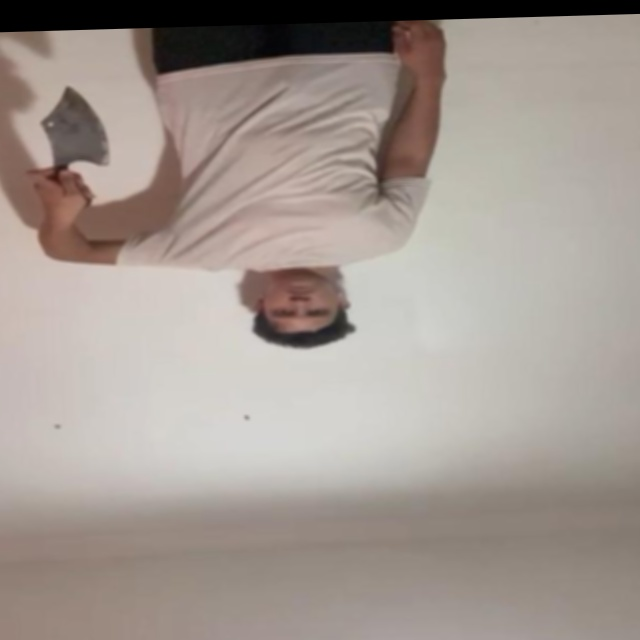Sharp-Object: (39, 86, 118, 172)
